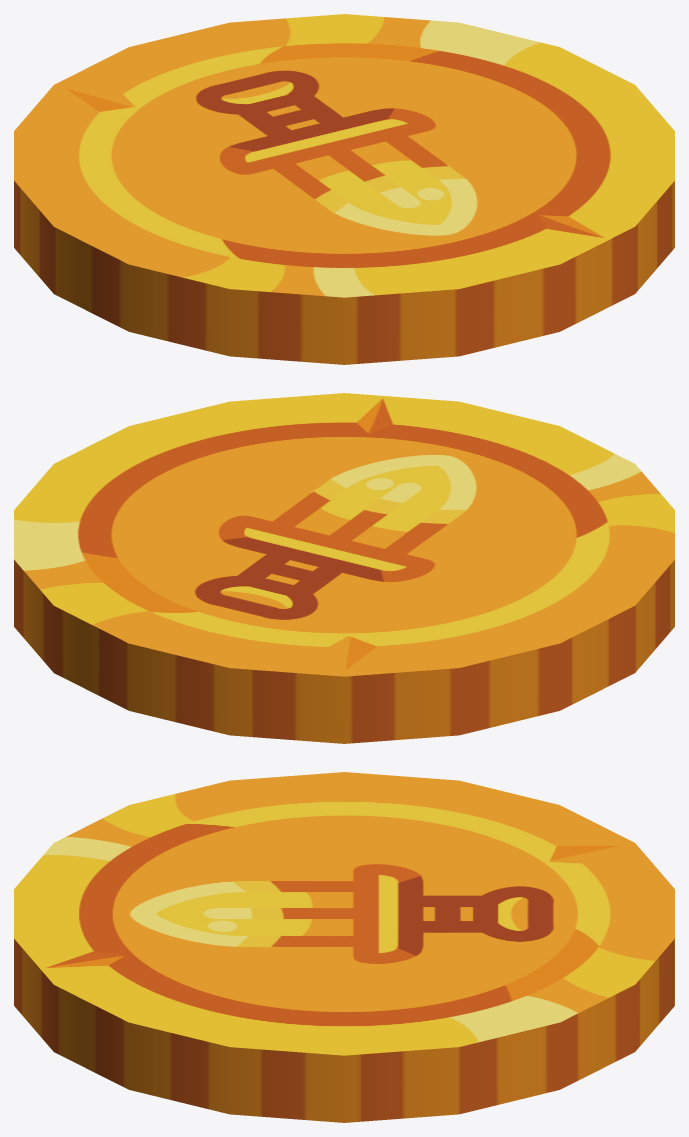
File: COIN_V001.obj
3 renders of one model, top to bottom at view 1: azimuth 30°, elevation 25°; view 2: azimuth 150°, elevation 25°; view 3: azimuth 270°, elevation 25°, orthographic.
Parts seen in each view (by area): view 1: COIN; view 2: COIN; view 3: COIN.
Part boxes in pixels (x1=…): COIN: x1=14, y1=14, x2=674, y2=364; COIN: x1=14, y1=393, x2=674, y2=743; COIN: x1=14, y1=772, x2=674, y2=1122.
Size of the model in its own units: 95.39 by 10.55 by 93.94.
